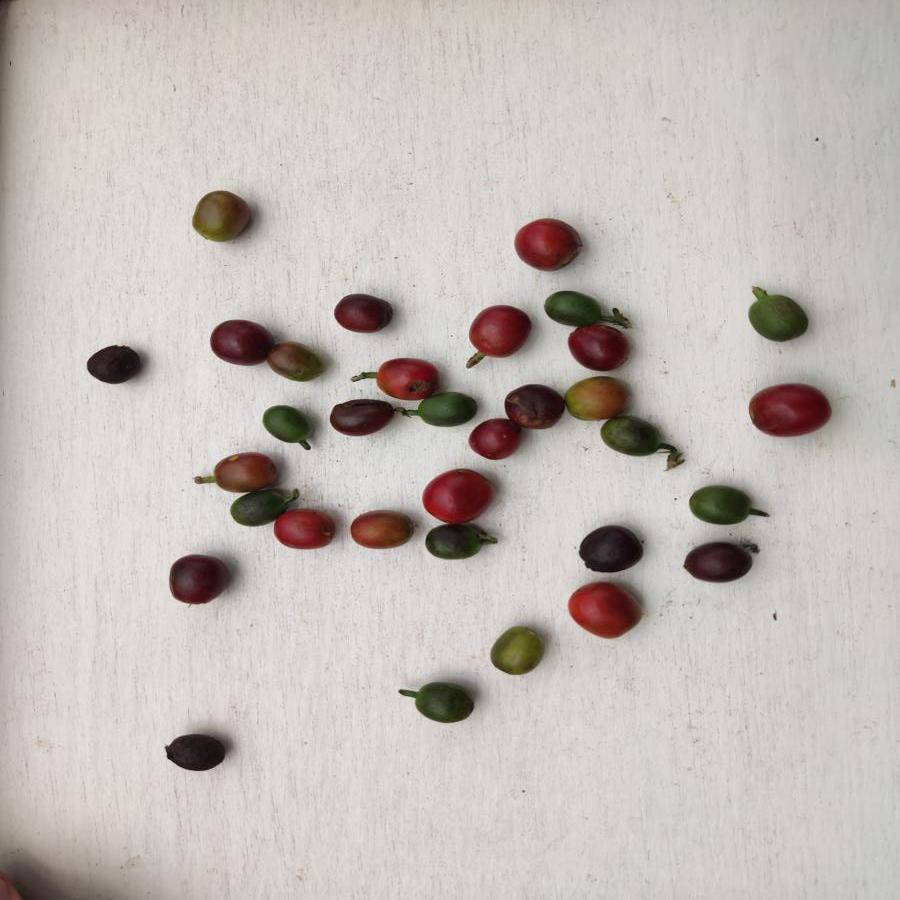Inmaduro: (741, 290, 810, 342), (684, 483, 751, 527), (412, 685, 479, 724), (598, 419, 663, 458), (543, 290, 607, 324), (415, 396, 478, 429), (422, 527, 485, 560), (261, 404, 310, 444), (227, 496, 285, 522)
Maduro: (564, 583, 645, 643), (749, 383, 831, 438), (423, 469, 497, 525), (466, 300, 535, 359), (514, 217, 587, 270), (377, 352, 439, 400), (272, 506, 336, 550)
Pinton: (190, 187, 252, 241), (487, 624, 545, 676), (562, 377, 627, 421), (208, 450, 283, 488), (350, 506, 417, 547), (267, 341, 322, 382)
Sobremaduro: (165, 550, 235, 608), (578, 524, 641, 576), (686, 540, 755, 582), (161, 729, 226, 772), (207, 321, 269, 365), (570, 324, 631, 368), (331, 397, 398, 436), (506, 383, 564, 427), (83, 345, 143, 386), (333, 293, 394, 332), (472, 418, 521, 457)
